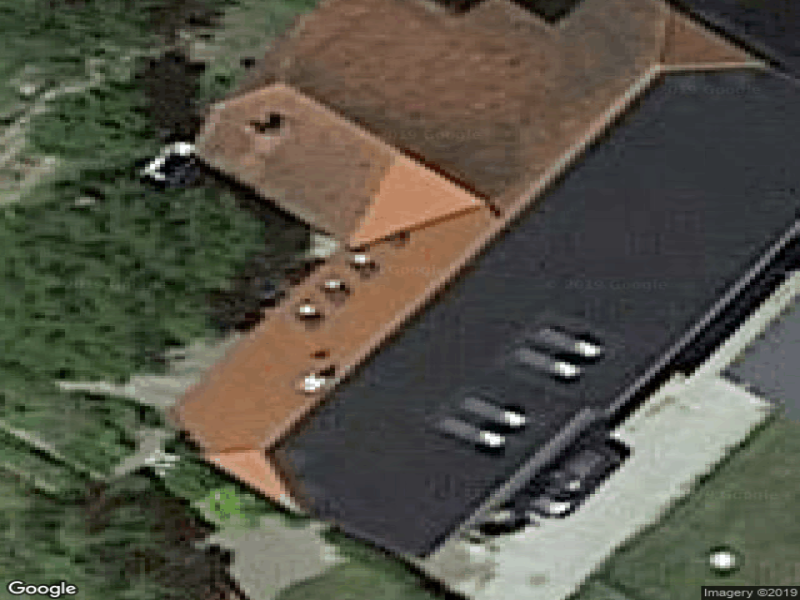pv: (285, 68, 800, 560)
